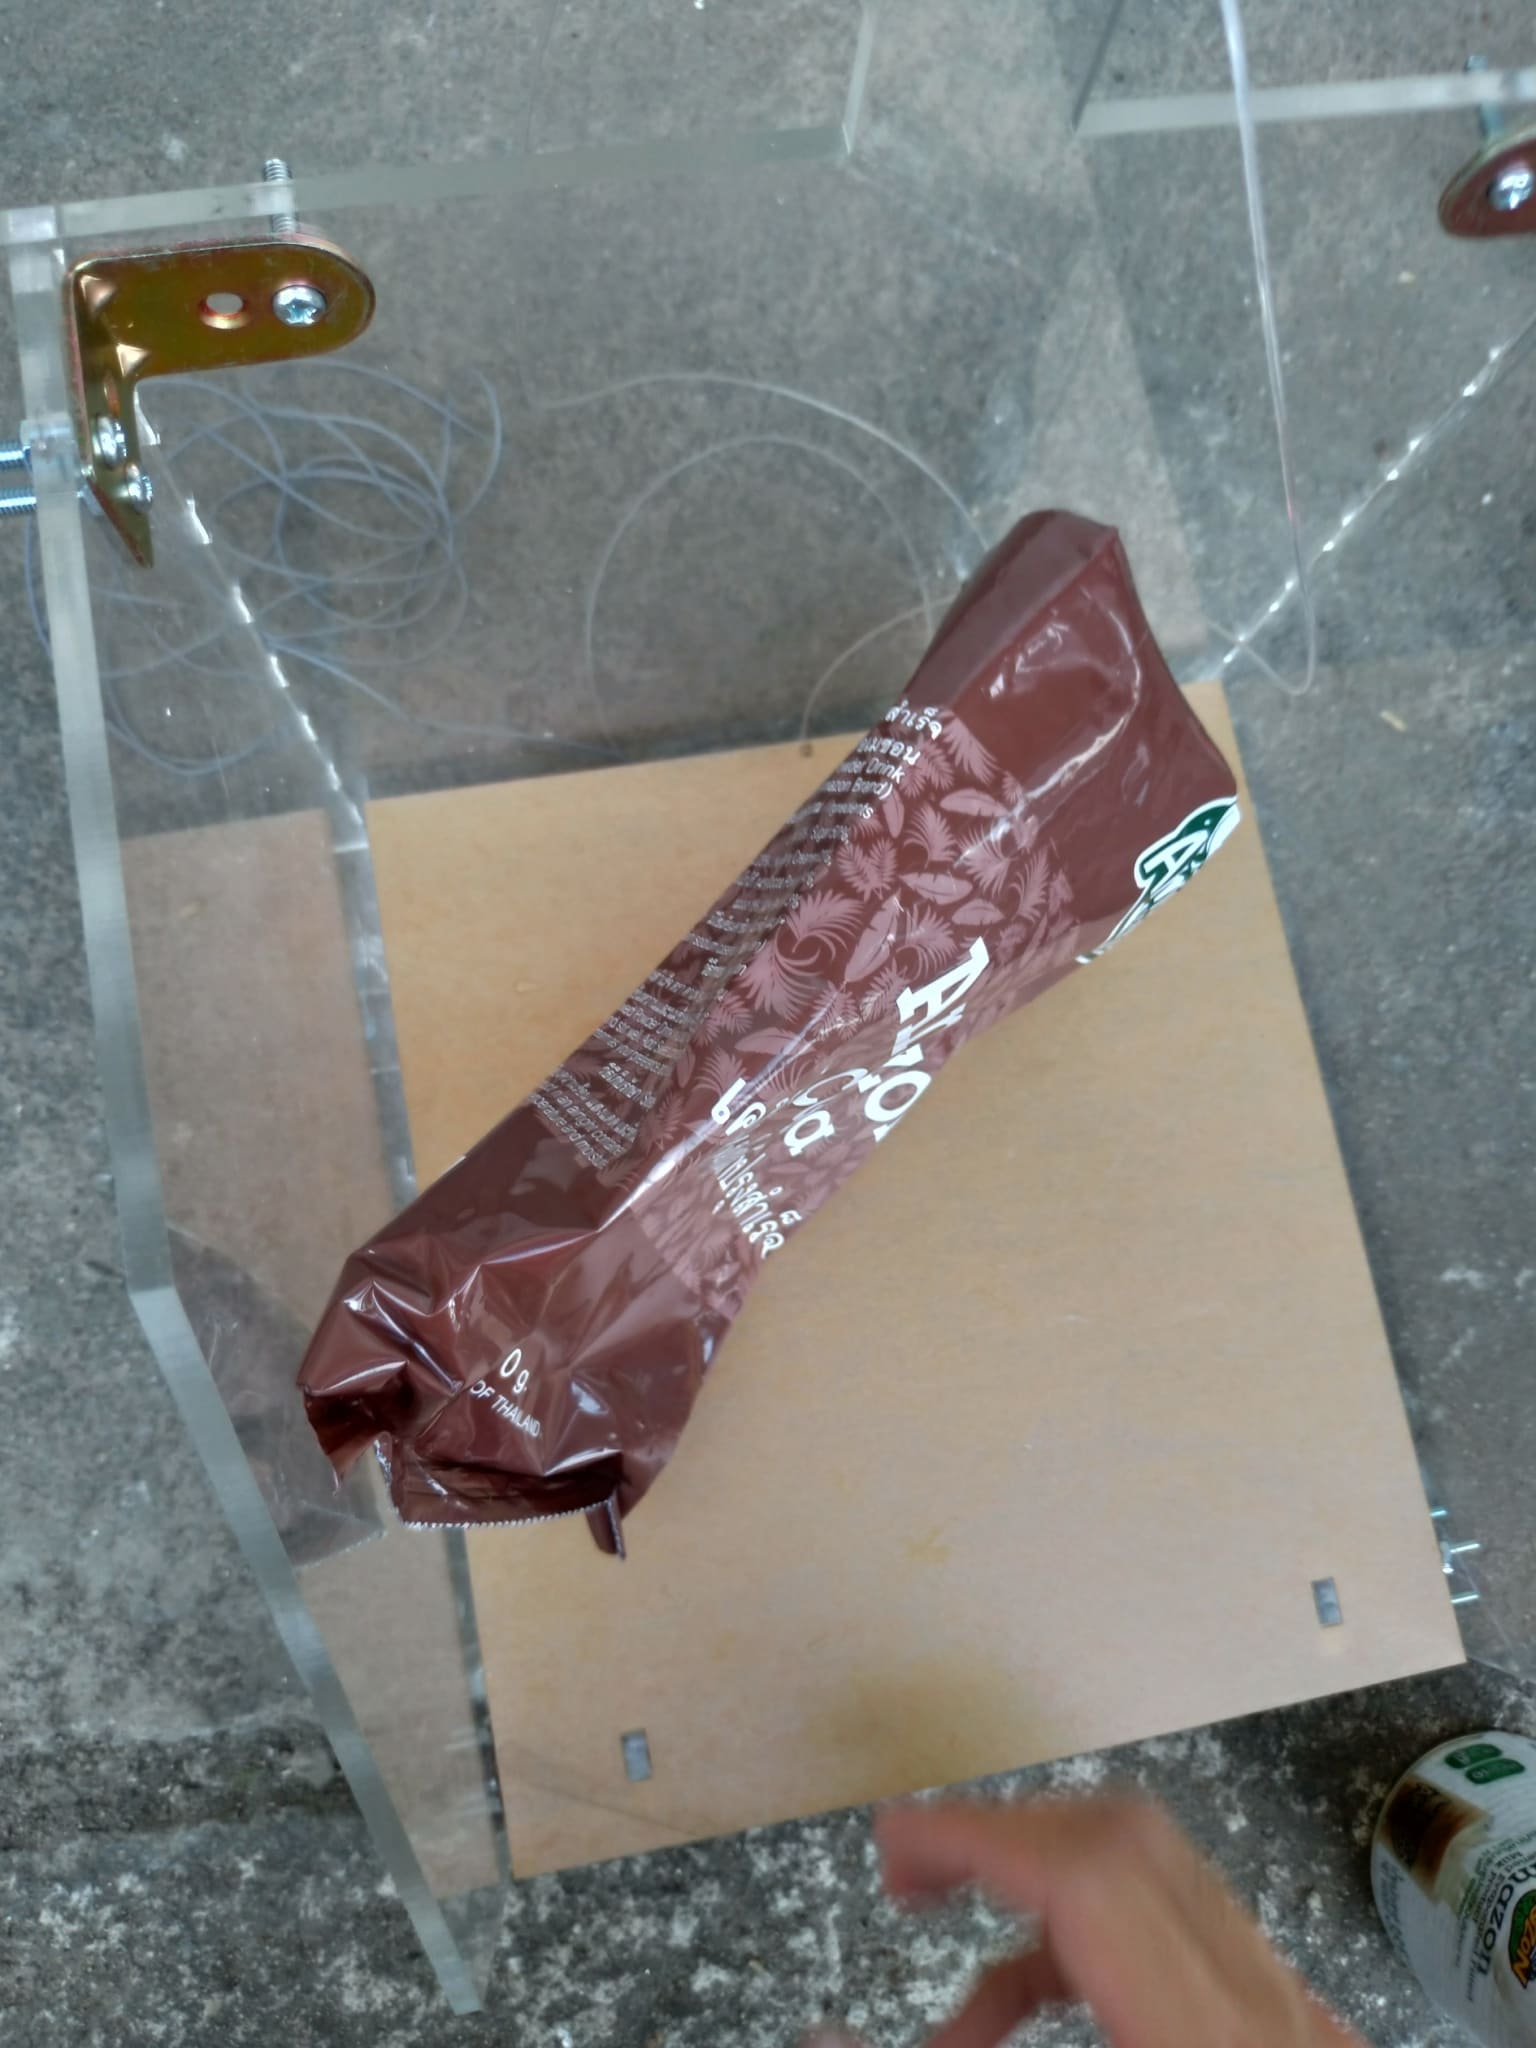Others: (307, 522, 1247, 1558)
